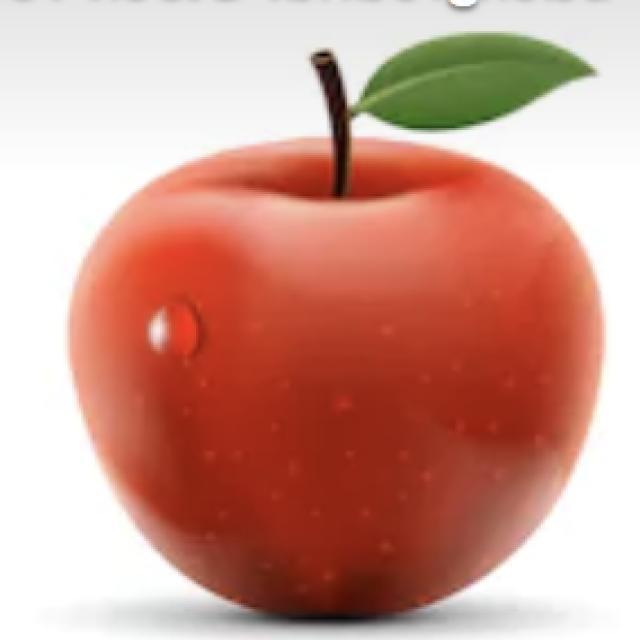Apple: (66, 33, 606, 620)
